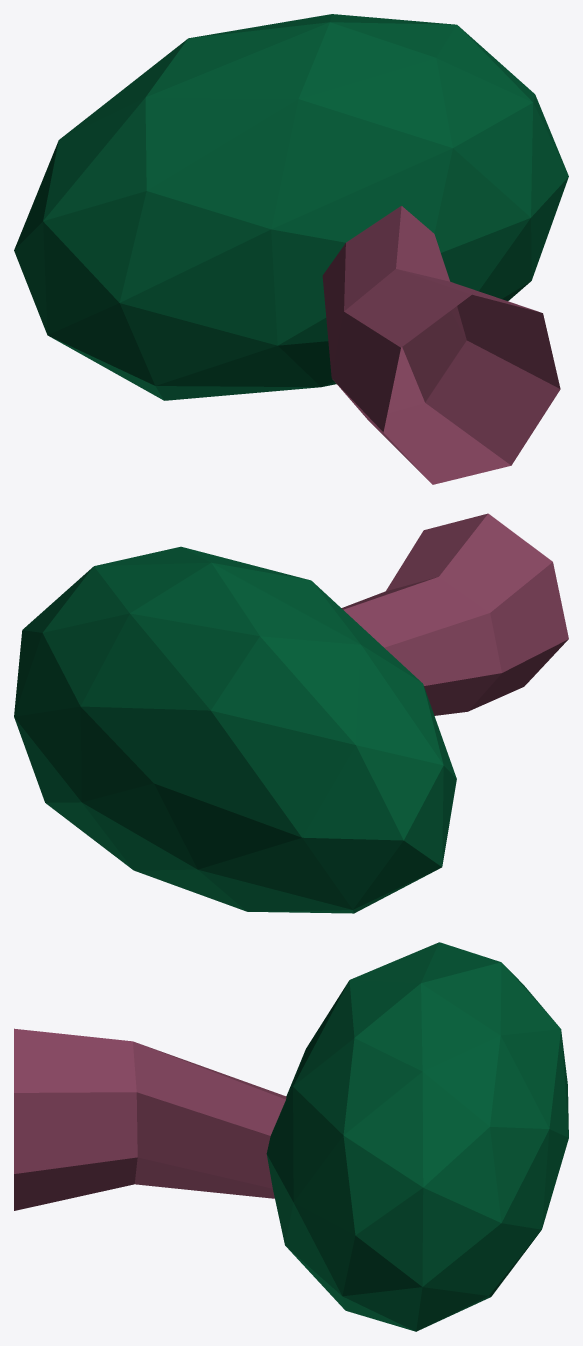
Rendered from Tree_5.fbx.
3 views of the same model, one above another, from view 1: azimuth 30°, elevation 25°; view 2: azimuth 150°, elevation 25°; view 3: azimuth 270°, elevation 25° (orthographic). The views are drawn at different scales.
Parts seen in each view (by area): view 1: Tree_5.001; view 2: Tree_5.001; view 3: Tree_5.001.
Part boxes in pixels (x1,y1,x2,y2): Tree_5.001: [14, 14, 568, 484]; Tree_5.001: [14, 513, 568, 913]; Tree_5.001: [14, 942, 568, 1331].
Size of the model in its own units: 2.27 by 1.61 by 2.51.
